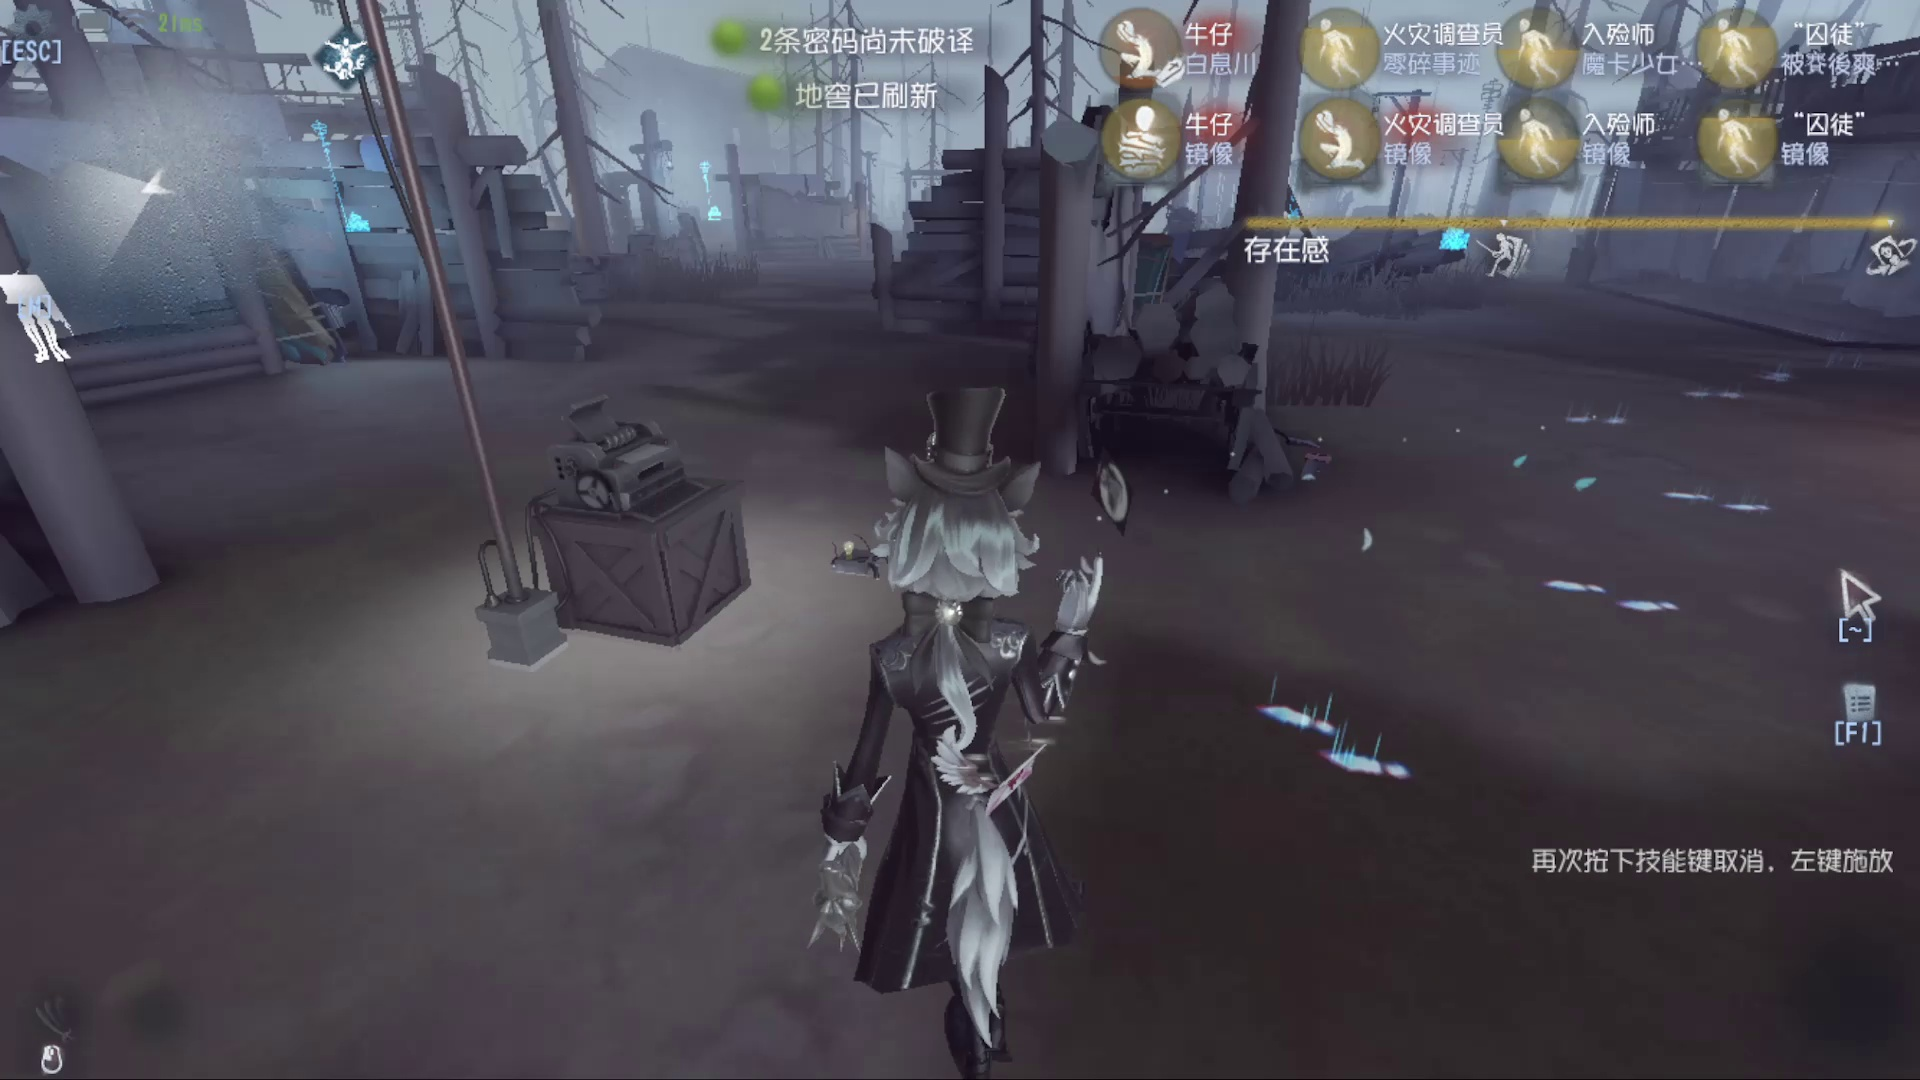密码机: (367, 96, 742, 661), (1439, 140, 1487, 286)
木板: (229, 204, 353, 396)
